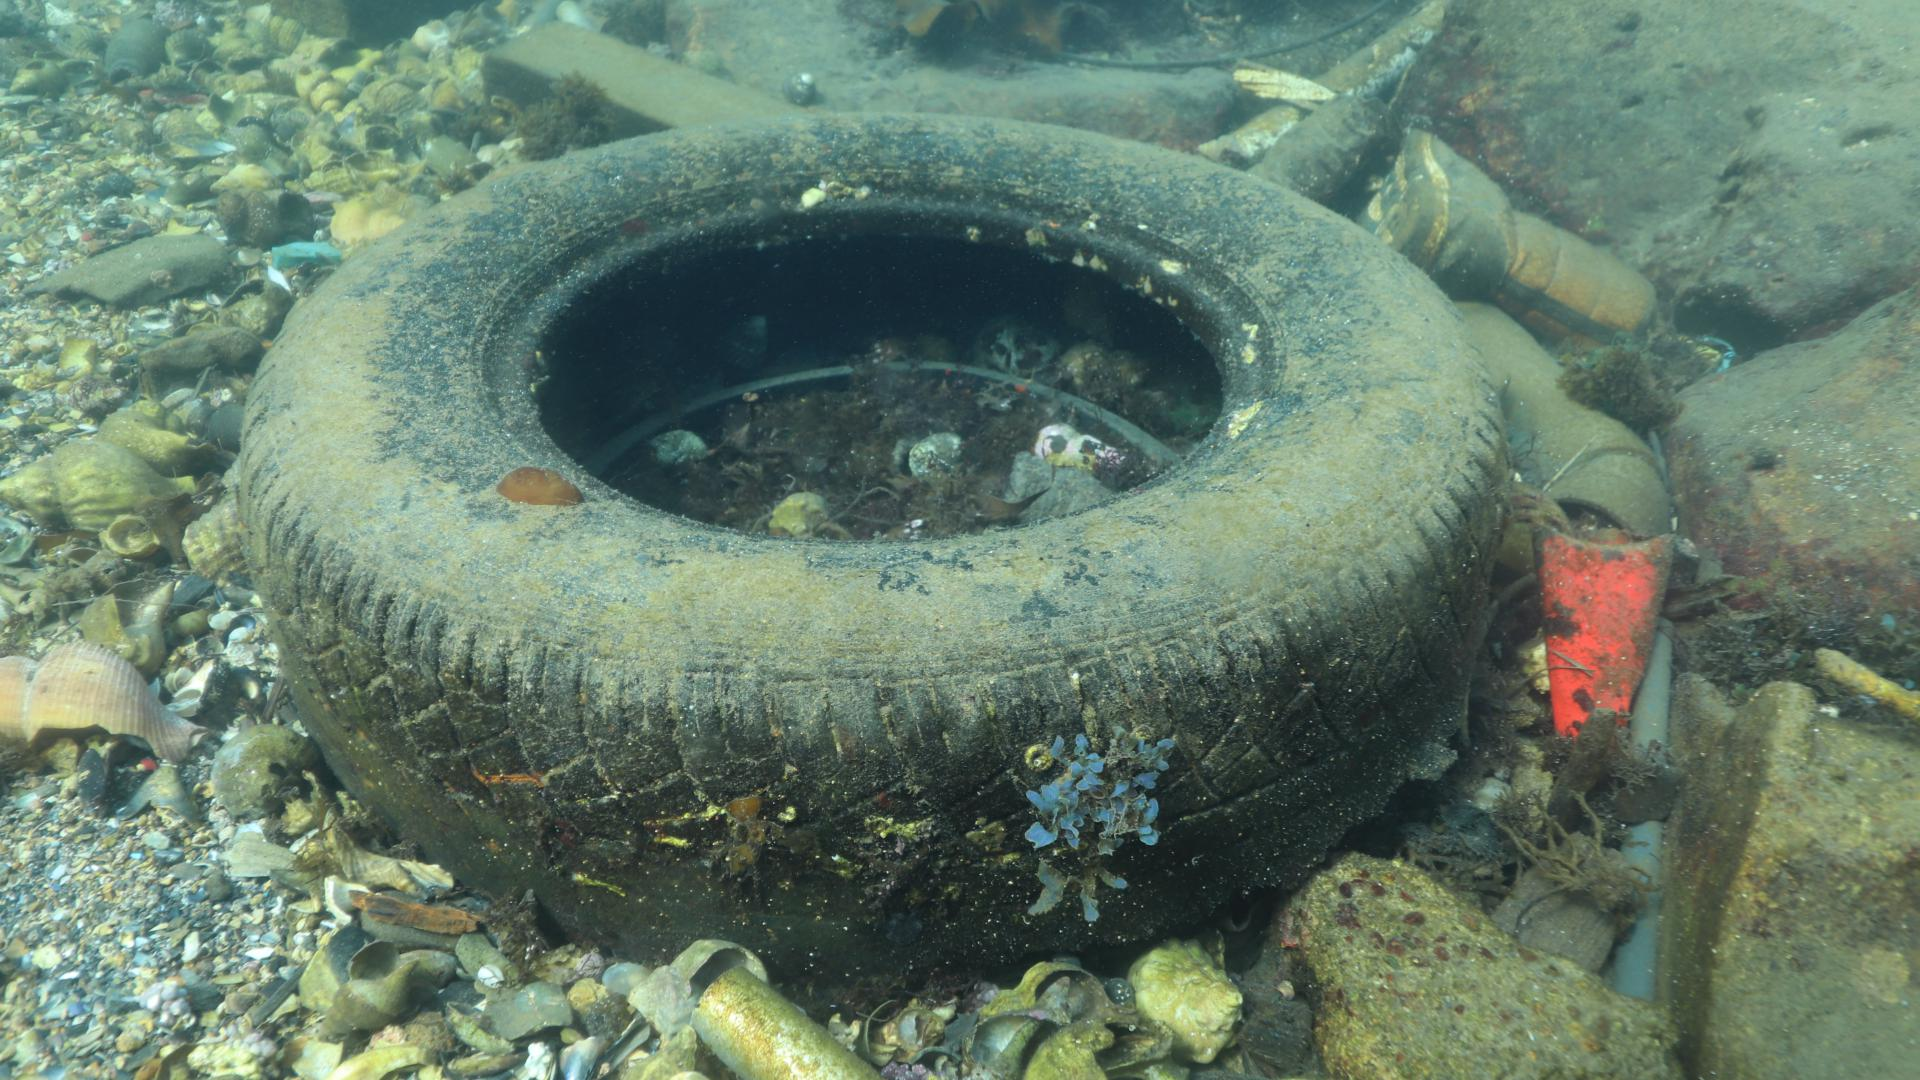tire: (232, 115, 1509, 1009)
wood: (477, 18, 841, 131)
